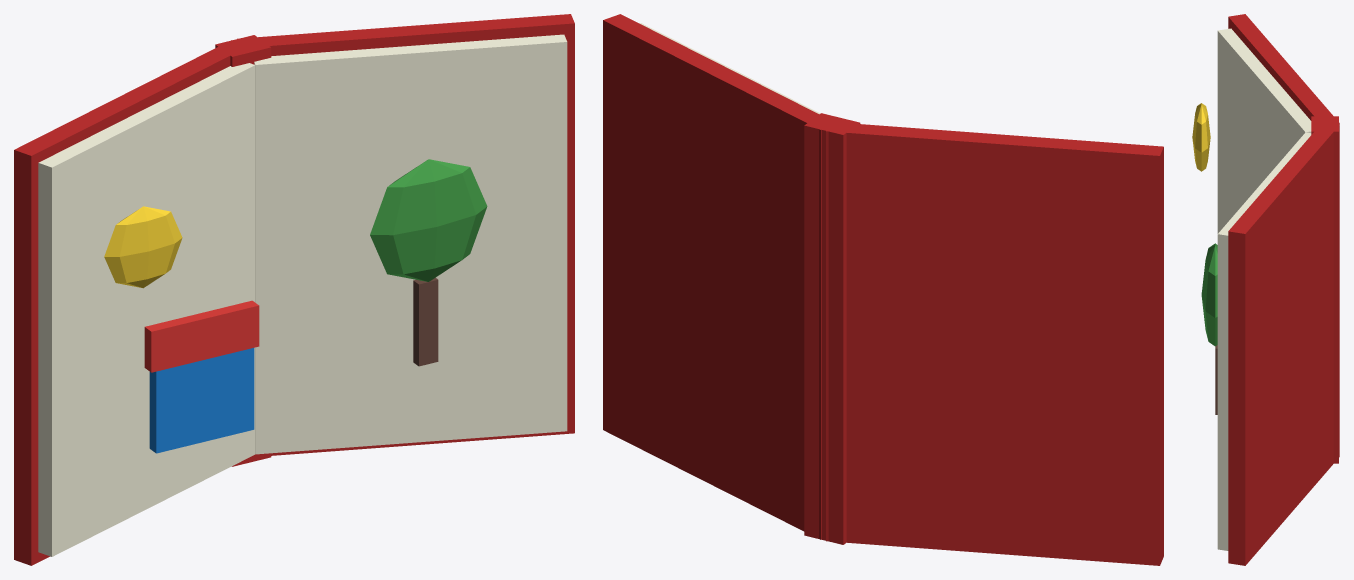
The model's file is bilderbok.glb.
3 renders of one model, left to right at view 1: azimuth 30°, elevation 25°; view 2: azimuth 150°, elevation 25°; view 3: azimuth 270°, elevation 25°, orthographic. The views are drawn at different scales.
Parts seen in each view (by area): view 1: bilderbok; view 2: bilderbok; view 3: bilderbok.
Boxes of the visible parts, x1,y1,x2,y2 form: bilderbok: (14, 14, 574, 565); bilderbok: (603, 14, 1163, 565); bilderbok: (1192, 14, 1339, 565).
Bounding box in the file's own units: 0.5687 × 0.4 × 0.1609.
